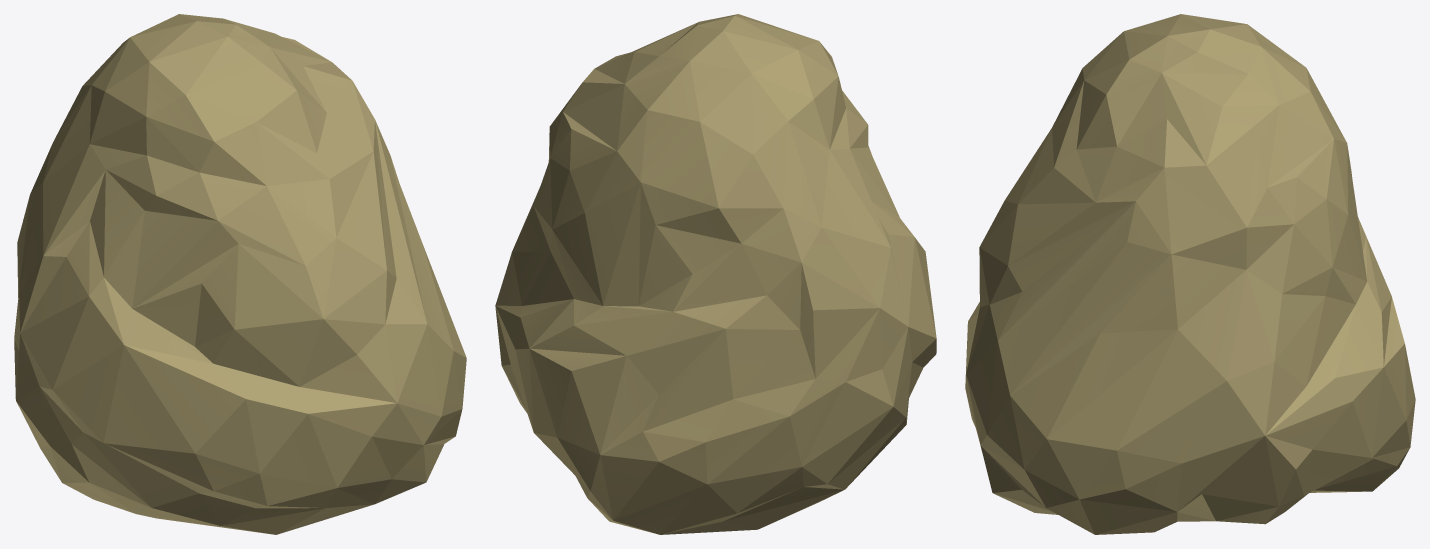
The model's file is SM_rock_77.fbx.
The picture shows the model from 3 angles, left to right: view 1: azimuth 30°, elevation 25°; view 2: azimuth 150°, elevation 25°; view 3: azimuth 270°, elevation 25°; orthographic projection. The views are drawn at different scales.
Visible parts, largest first — view 1: rock_77; view 2: rock_77; view 3: rock_77.
Boxes of the visible parts, <box> form: rock_77: <box>14,14,466,534</box>; rock_77: <box>495,14,936,534</box>; rock_77: <box>965,14,1415,534</box>.
Bounding box in the file's own units: 106 × 123 × 106.
